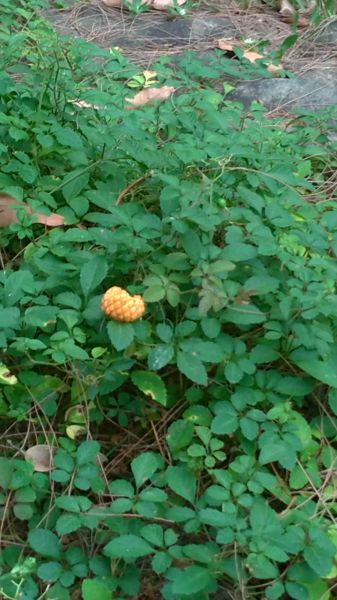eggs: (94, 281, 150, 326)
